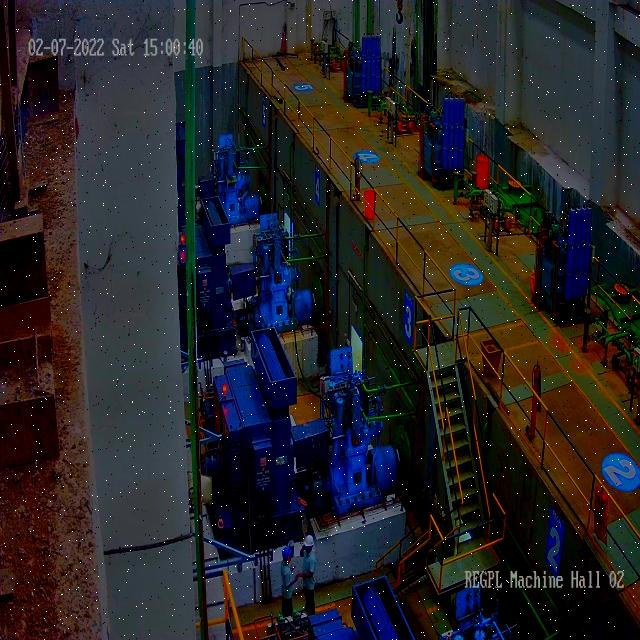Helmet: (304, 534, 315, 548), (282, 547, 292, 559)
